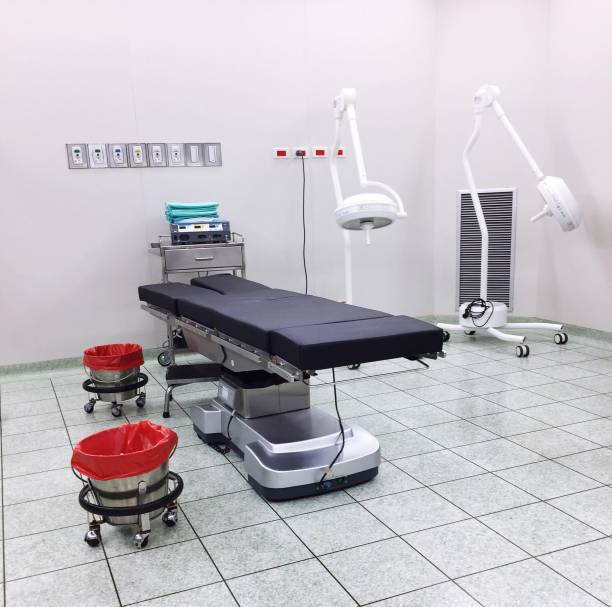electrosurgical_unit: (167, 219, 232, 242)
exam_table: (137, 272, 451, 501)
handle: (192, 249, 222, 269)
surgical_light: (326, 183, 409, 250), (525, 172, 586, 239)
waste_bin: (65, 421, 187, 548), (81, 344, 150, 414)
